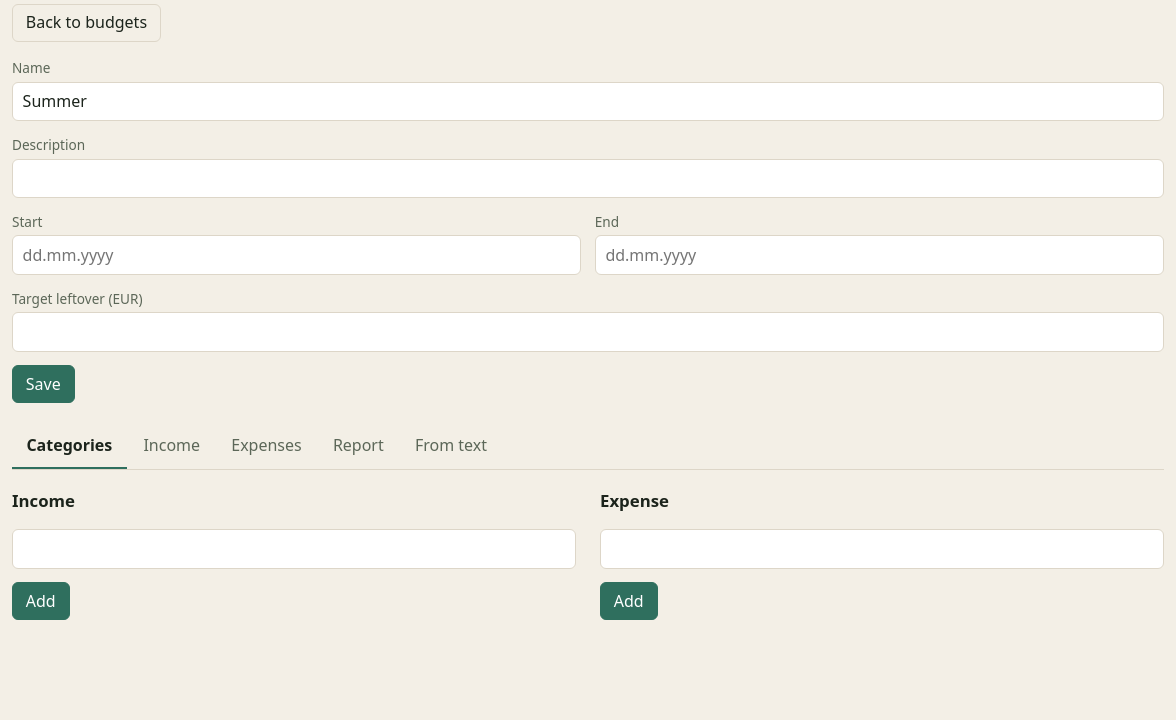
Test: AC13: Invalid amount on the form uses parseMoney error › AC13: Invalid amount on the form uses parseMoney error
Click the button "Income" at {"x": 172, "y": 446}, box [129,423,214,469]
(page scrolled)
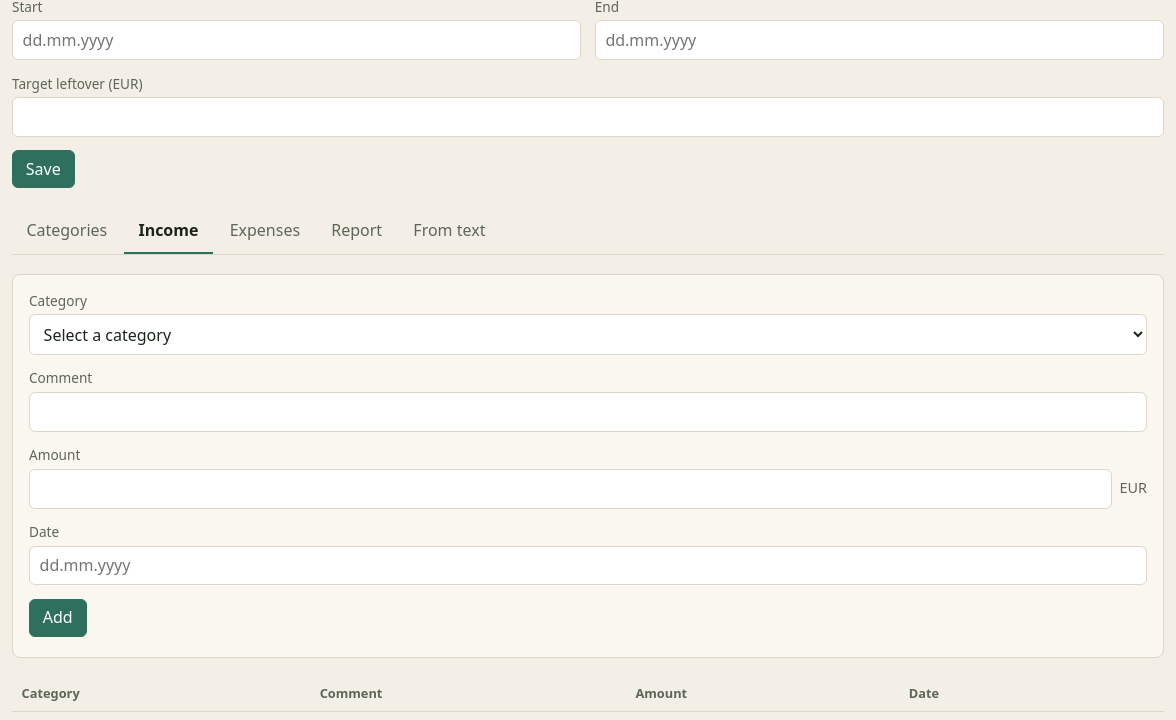
Type "abc" into the field labelled "Amount" at {"x": 571, "y": 489}, box [29,469,1112,509]
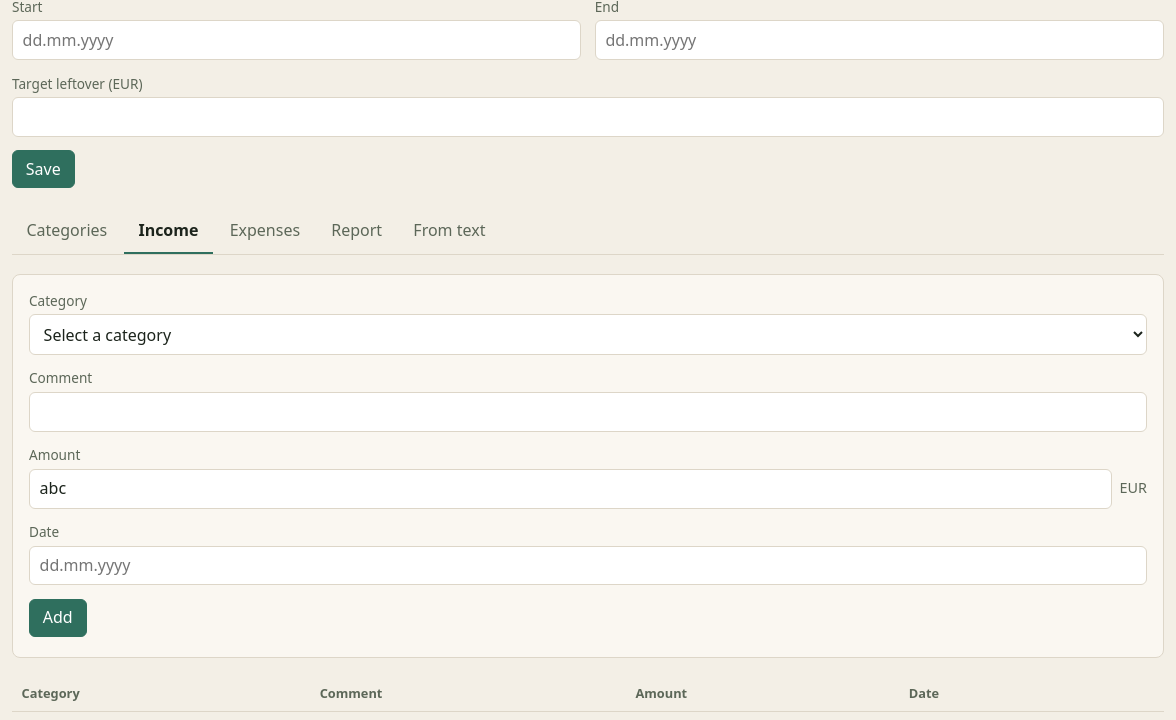
Click the button "Add" at {"x": 58, "y": 618}, box [29,599,86,637]
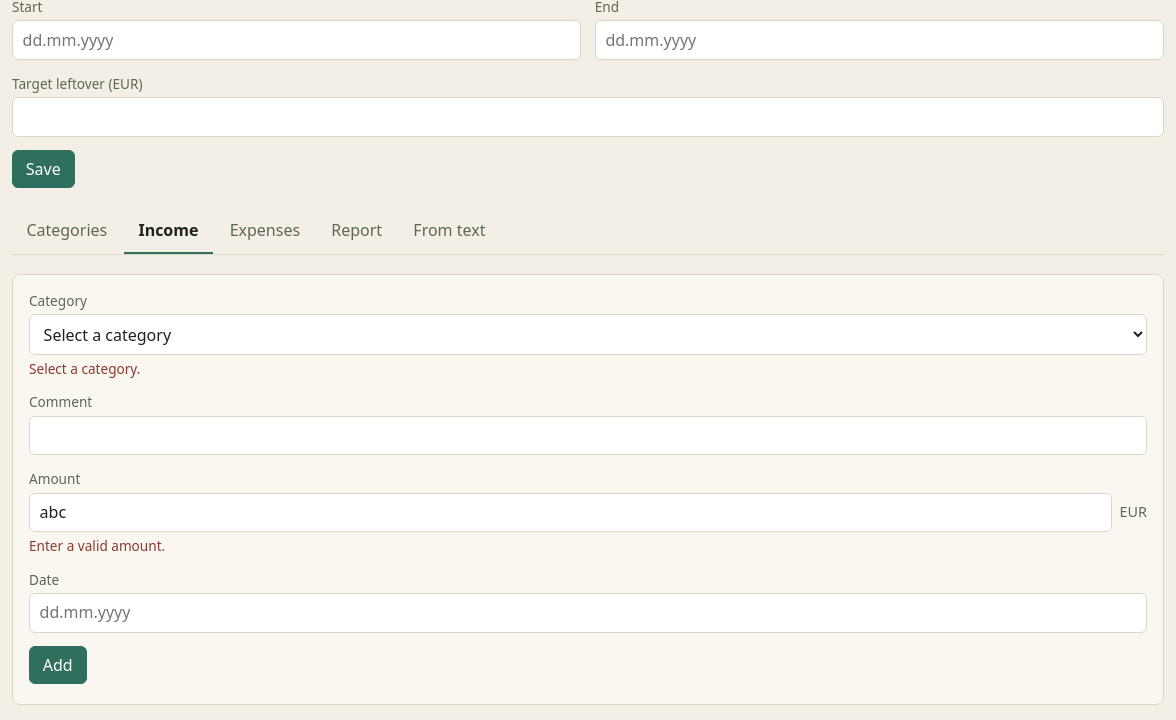
Check: the text "Enter a valid amount." is shown, box [29,536,165,555]
